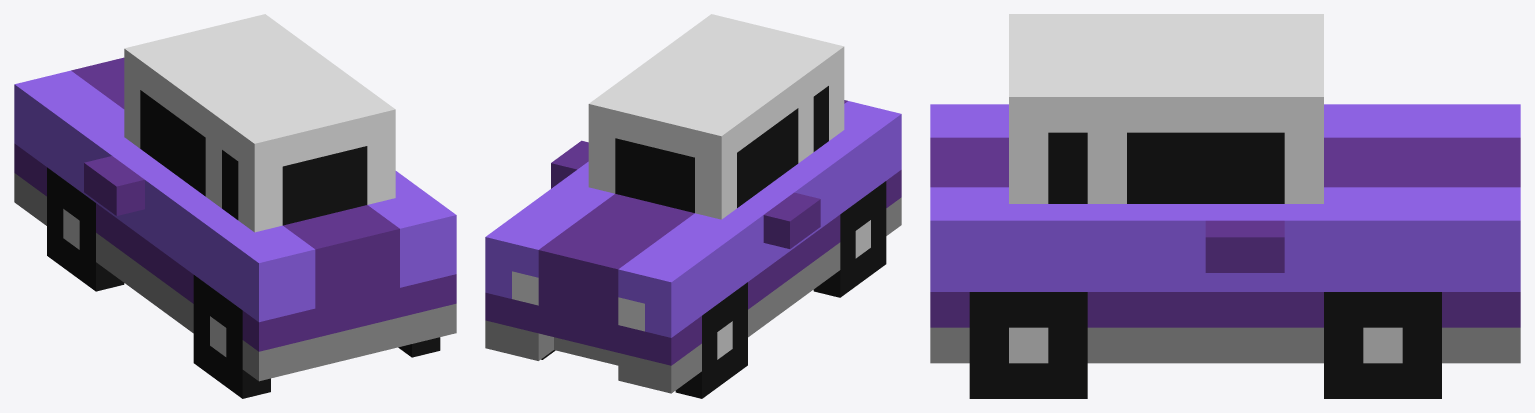
Rendered from PurpleCar.obj.
3 renders of one model, left to right at view 1: azimuth 30°, elevation 25°; view 2: azimuth 150°, elevation 25°; view 3: azimuth 270°, elevation 25°, orthographic. The views are drawn at different scales.
Visible parts, largest first — view 1: PurpleCar; view 2: PurpleCar; view 3: PurpleCar.
Part boxes in pixels (x1,y1,x2,y2): PurpleCar: (14, 14, 456, 398); PurpleCar: (485, 14, 901, 398); PurpleCar: (930, 14, 1520, 398).
Size of the model in its own units: 9 by 8 by 15.
1 material, 1 textured.
